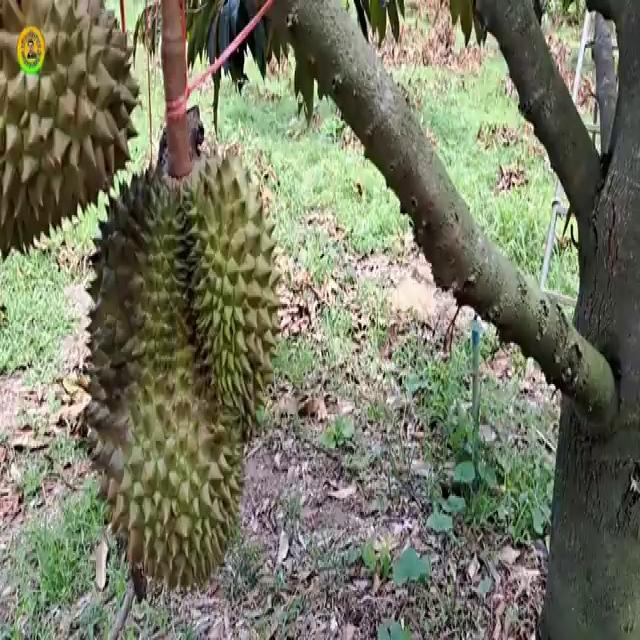durian: (78, 138, 288, 603), (1, 0, 144, 261)
